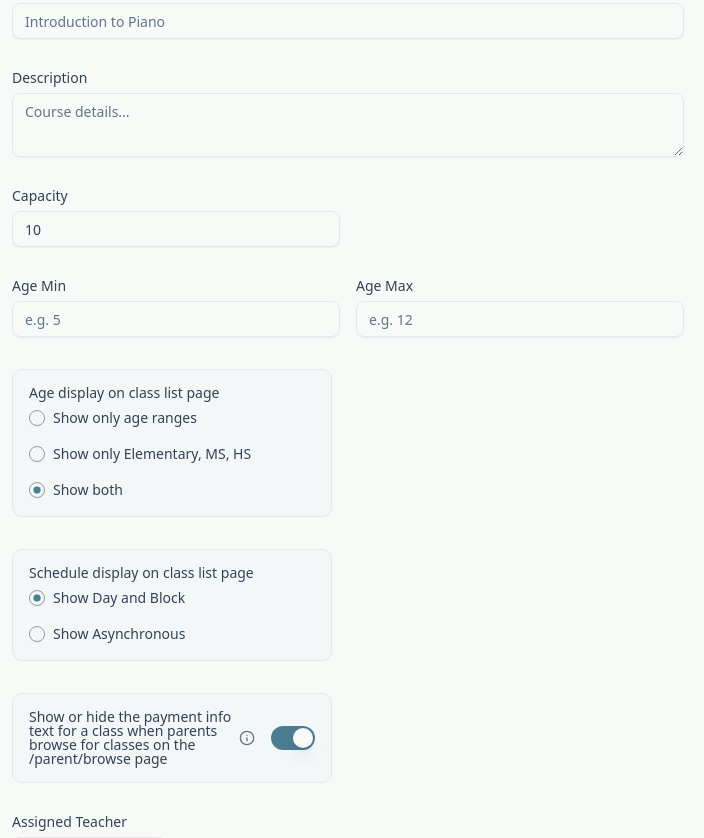
Test: AdminClassForm › shows validation error when age_min exceeds age_max
Type "15" into the number field labelled "Age Min".
click(176, 319); type("15")  # box [12,301,340,337]
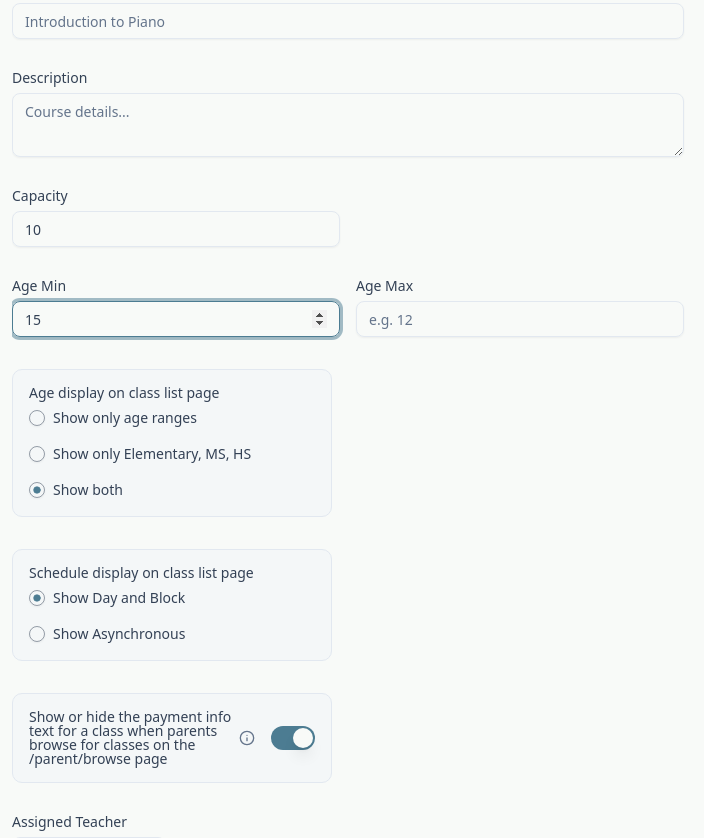
Type "10" into the number field labelled "Age Max".
click(520, 319); type("10")  # box [356,301,684,337]
(page scrolled)
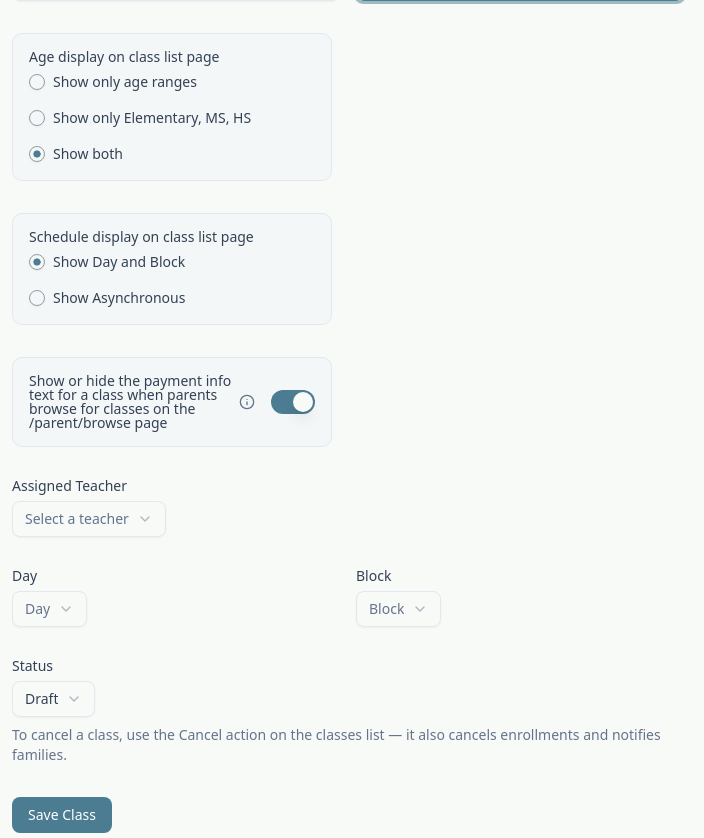
# Submit the form to trigger validation
Click the button "Save Class".
click(62, 815)  # box [12,797,112,833]
(page scrolled)
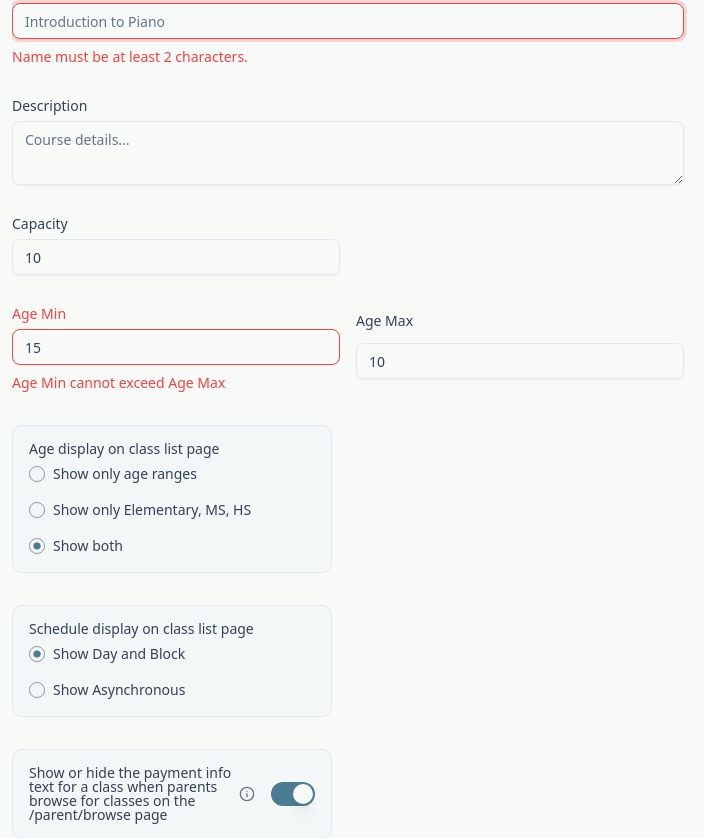
Now the text "Age Min cannot exceed Age Max" is shown, box [12,373,225,392]
